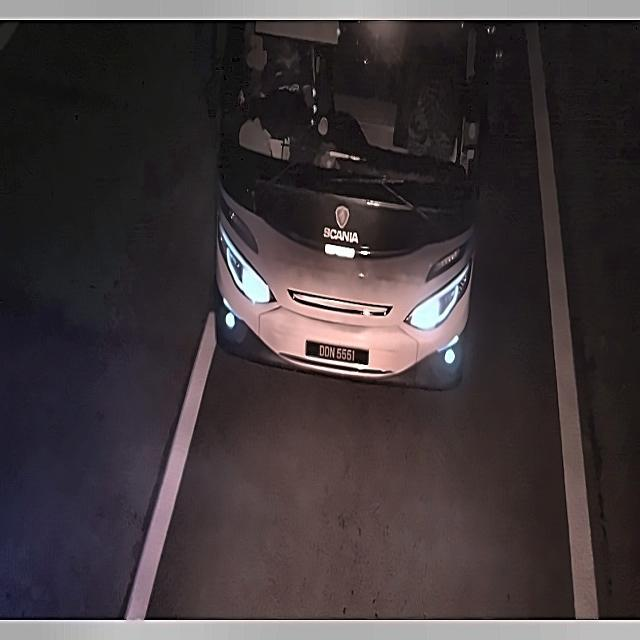car: (306, 343, 362, 364)
